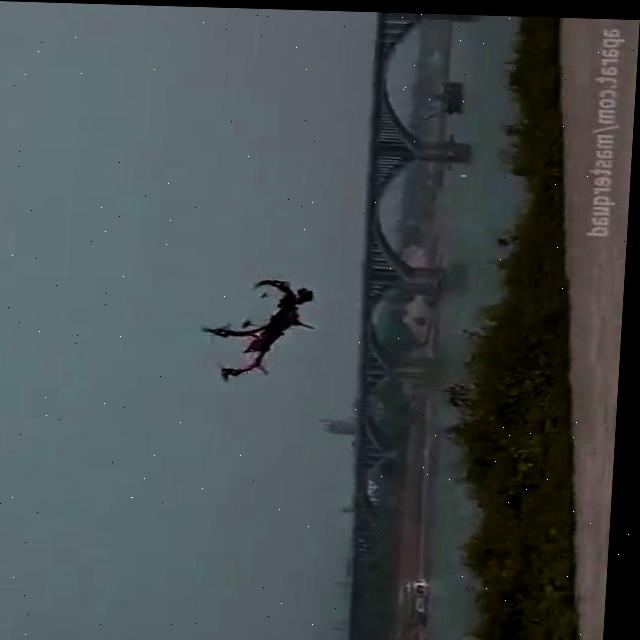drone: (198, 272, 324, 385)
